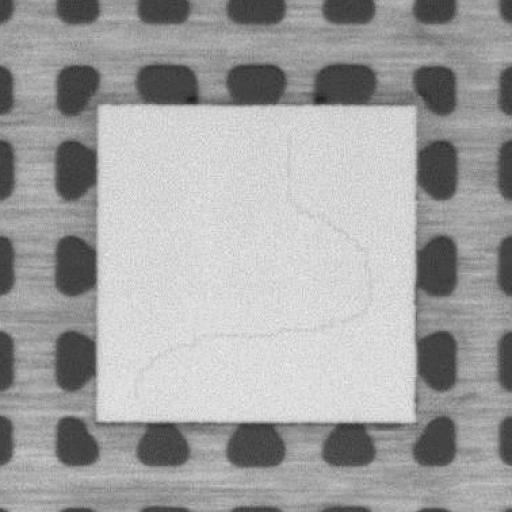DIE_CRACK: (142, 131, 371, 376)
